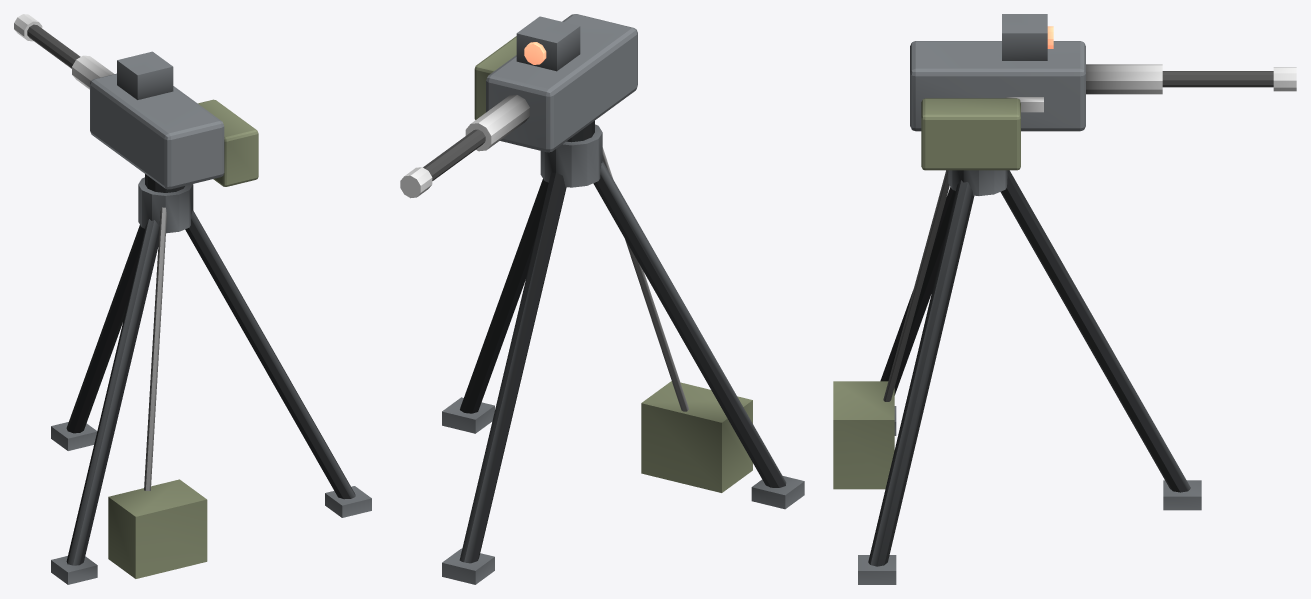
Rendered from Base_AutoTurret.fbx.
3 views of the same model, side by side, from view 1: azimuth 30°, elevation 25°; view 2: azimuth 150°, elevation 25°; view 3: azimuth 270°, elevation 25° (orthographic). The views are drawn at different scales.
Visible parts, largest first — view 1: Base_AutoTurret; view 2: Base_AutoTurret; view 3: Base_AutoTurret.
Boxes of the visible parts, x1,y1,x2,y2 form: Base_AutoTurret: (14,14,371,584); Base_AutoTurret: (400,14,804,584); Base_AutoTurret: (833,14,1296,584).
Size of the model in its own units: 1.02 by 1.38 by 1.21.
